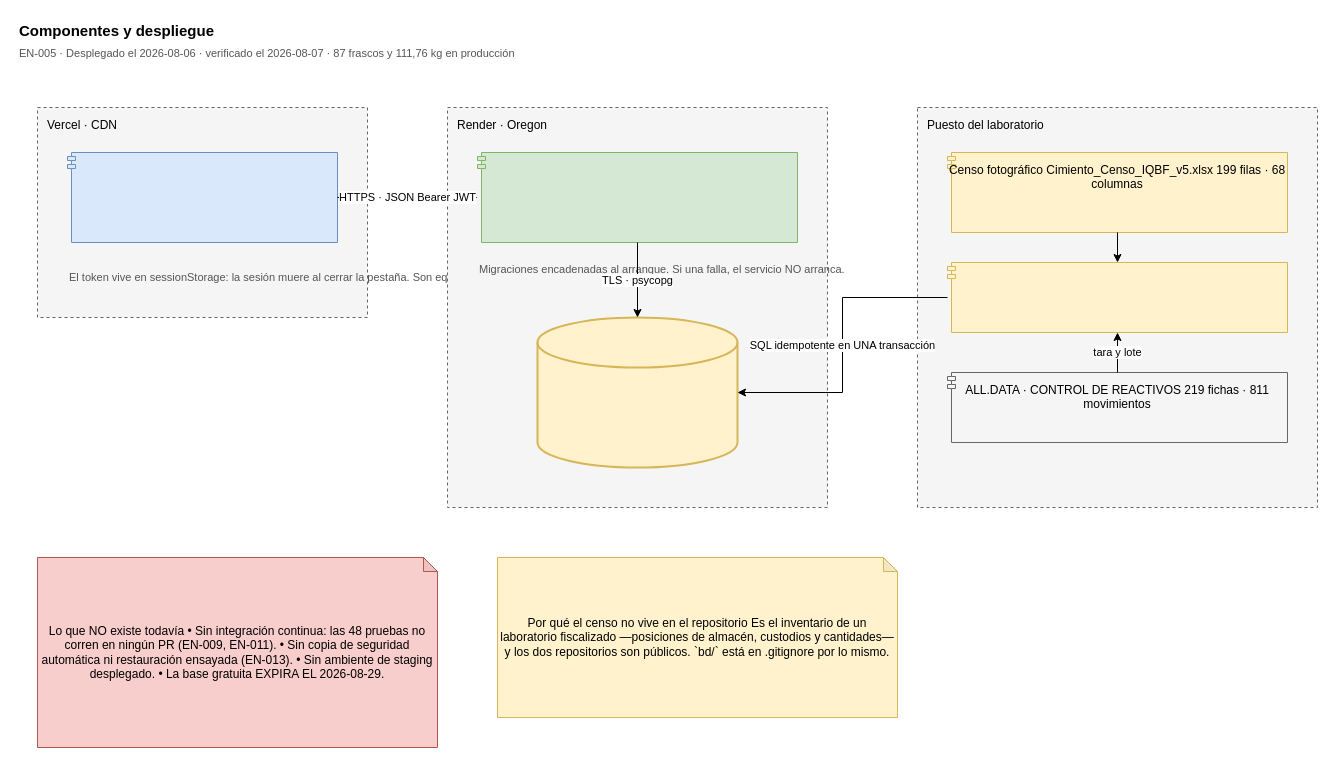
Some shapes in this 1335 by 765 pixel diagram are drawn without their labels. Here are the shapes that lost their labels. From the top down, the centre of each, then its label:
At (x=202, y=197): "iqbf-ulima-front SPA React 18 + Vite + TypeScript 5 módulos contra la API".
At (x=637, y=197): "iqbf-api FastAPI + psycopg 3 · Python 3.12 41 rutas en 7 módulos".
At (x=1117, y=297): "carga_censo_v4.py + preflight_carga.py 8 comprobaciones por fila".
At (x=637, y=392): "iqbf-db PostgreSQL 16 25 tablas · 11 vistas".
